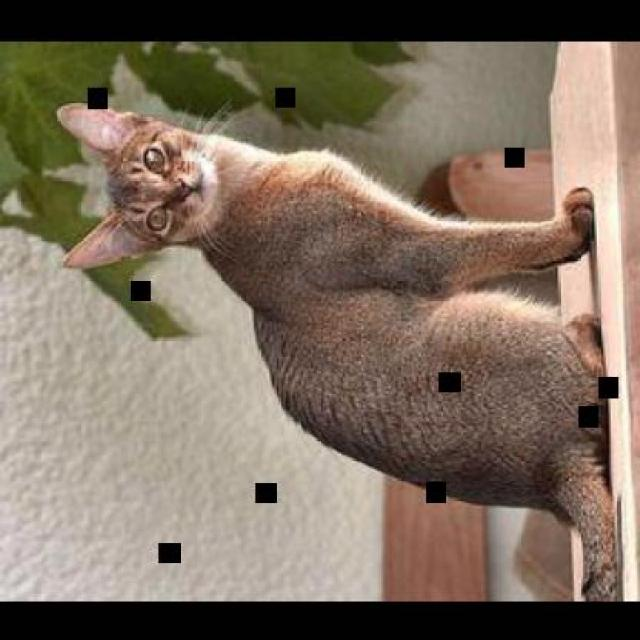unauthorized: (54, 97, 618, 600)
